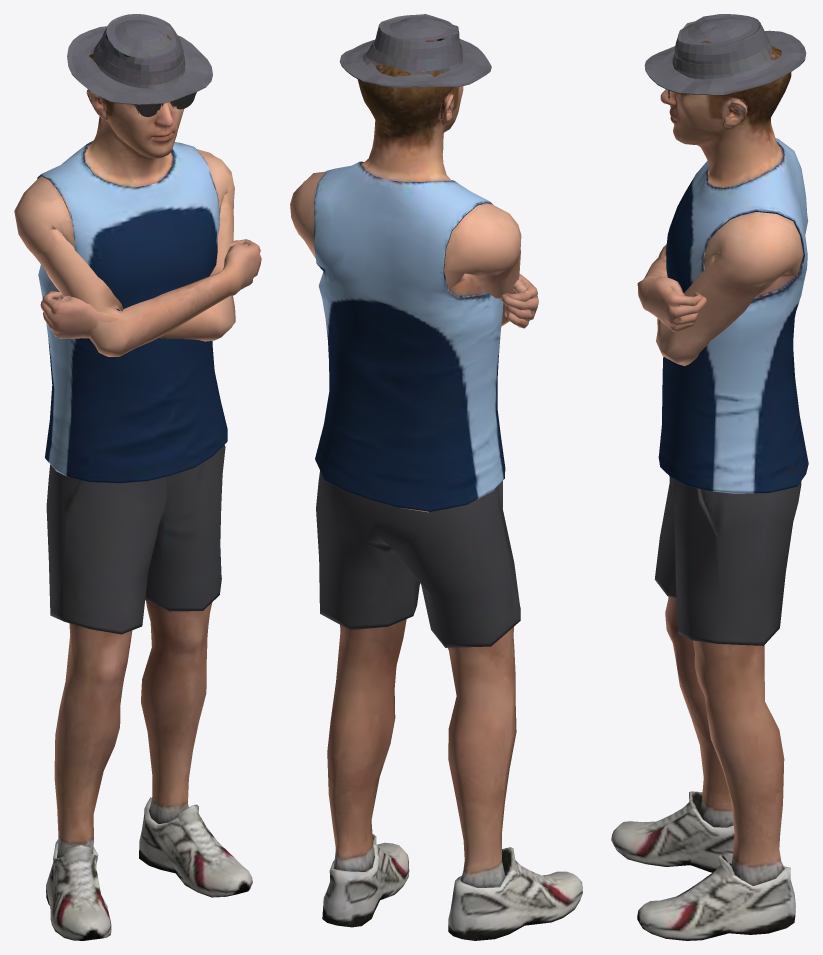
3 renders of one model, left to right at view 1: azimuth 30°, elevation 25°; view 2: azimuth 150°, elevation 25°; view 3: azimuth 270°, elevation 25°, orthographic. The views are drawn at different scales.
Parts seen in each view (by area): view 1: p05255; view 2: p05255; view 3: p05255.
Boxes of the visible parts, left/top/right/bottom form: p05255: left=14, top=14, right=261, bottom=940; p05255: left=290, top=14, right=582, bottom=940; p05255: left=611, top=14, right=808, bottom=940.
Size of the model in its own units: 0.4879 by 1.83 by 0.3732.
Materials: 1 (1 with a texture image).
